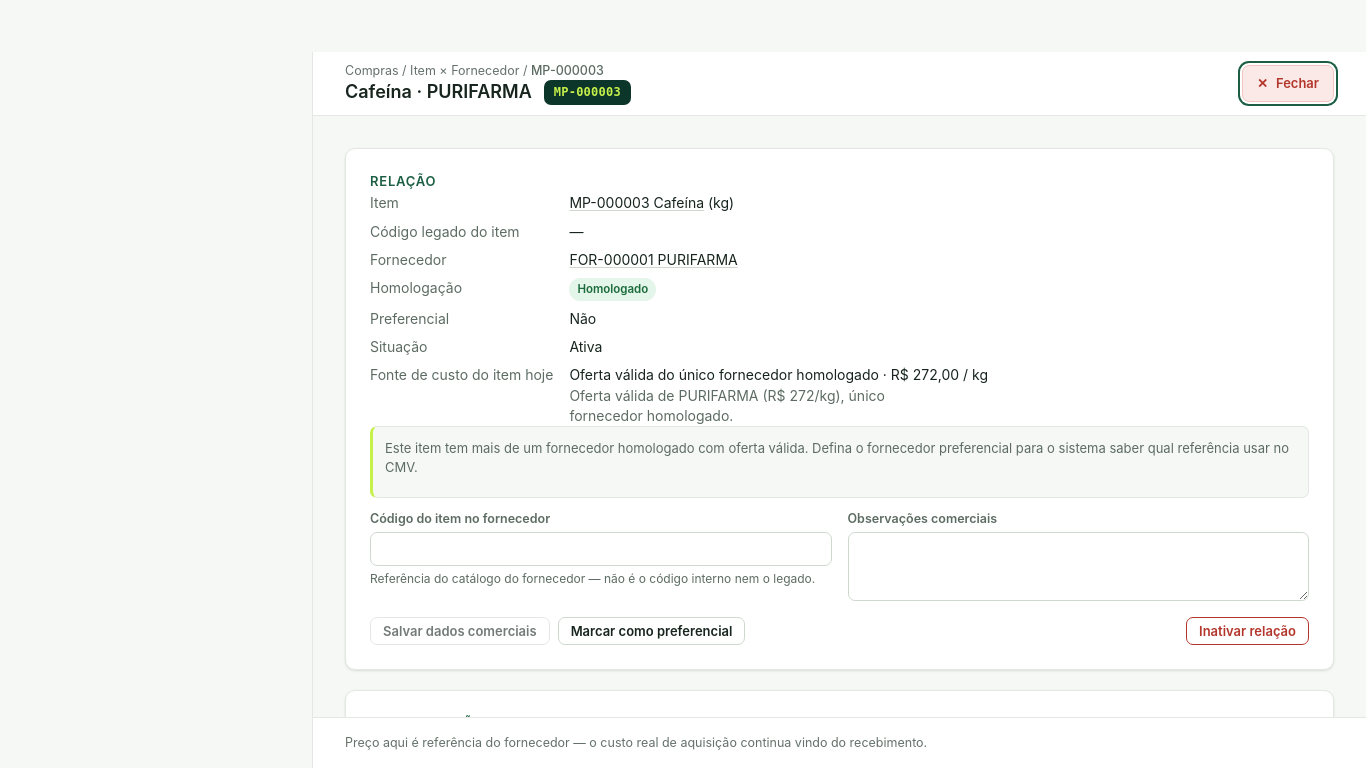
it: Item × Fornecedor — preferencial e ambiguidade › marcar como preferencial é uma ação visível, e o estado muda na tela
Click the button "Marcar como preferencial" at (652, 631), box x1=558 y1=617 x2=745 y2=645
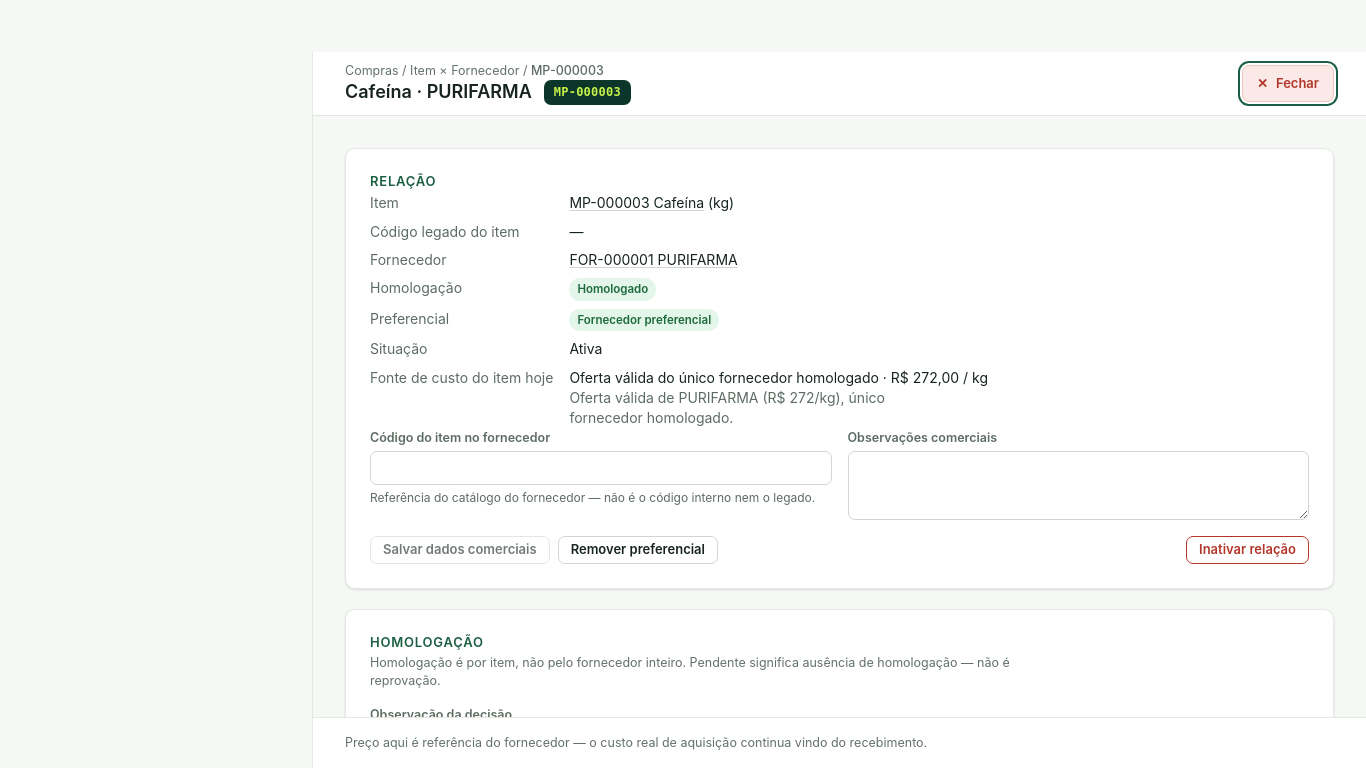
Expected: the text "Fornecedor preferencial" is shown, x1=569 y1=309 x2=719 y2=332
Expected: the button "Remover preferencial" is shown, x1=558 y1=536 x2=718 y2=564
Expected: the text "Este item tem mais de um fornecedor homologado com oferta válida. Defina o fornecedor preferencial para o sistema saber " is gone
